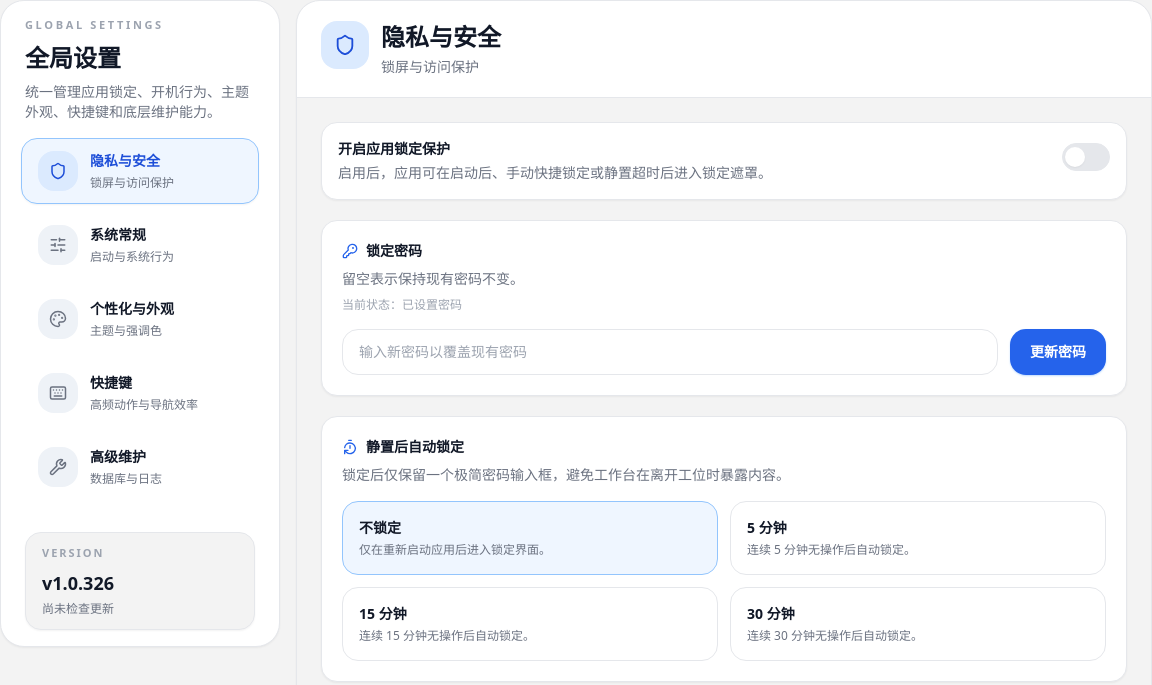
Test: resets a shortcut to its default and confirms with a toast
Click the button "快捷键 高频动作与导航效率". click: coordinates (140, 392)
box: [21, 360, 259, 426]
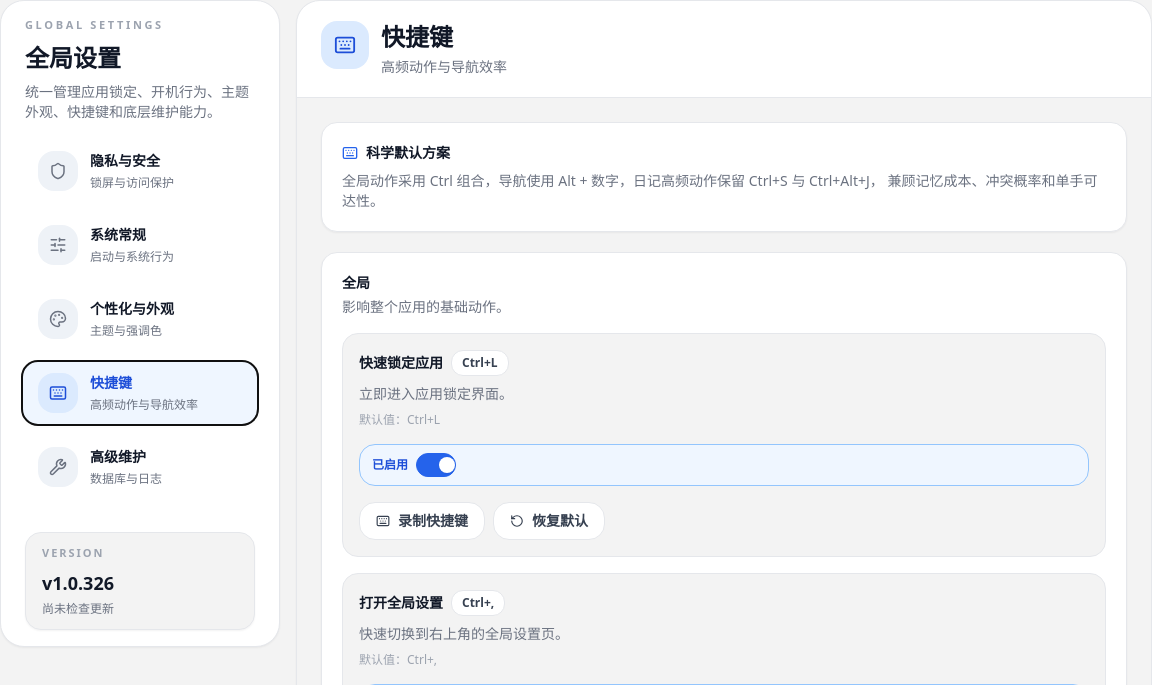
Click the button with aria-label "快速锁定应用 恢复默认". click: coordinates (549, 521)
box: [493, 502, 605, 540]
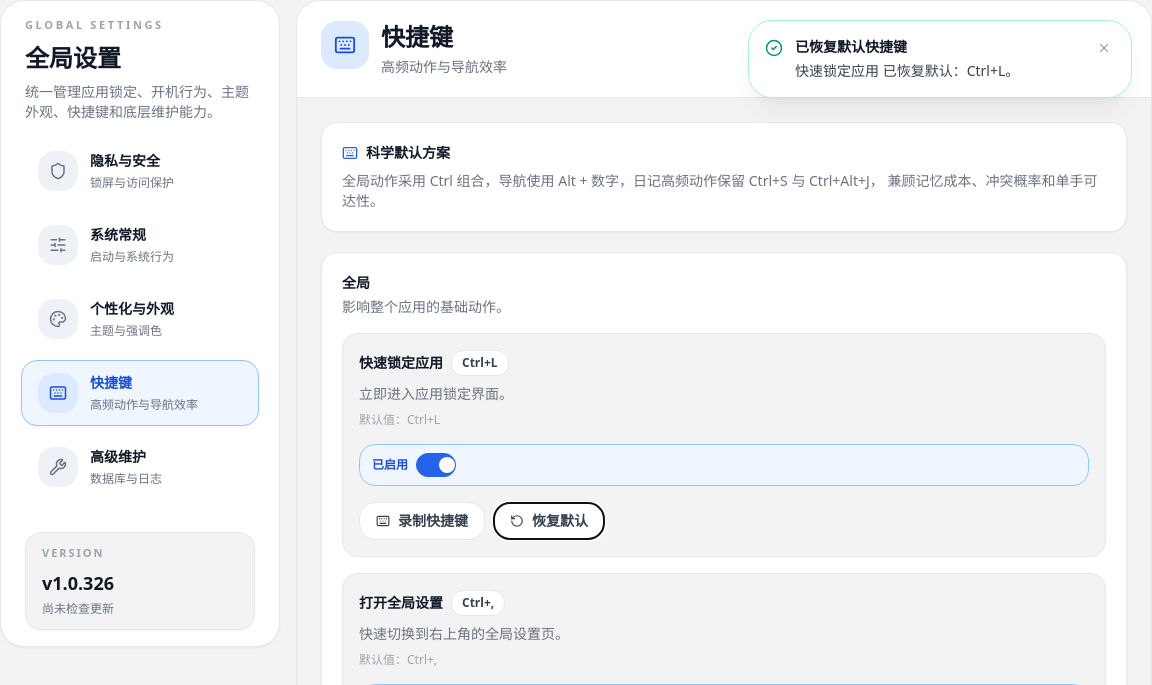
Expected: the text "已恢复默认快捷键" is shown, [795, 37, 907, 56]
Expected: the text "快速锁定应用 已恢复默认：Ctrl+L。" is shown, [795, 61, 1019, 80]
